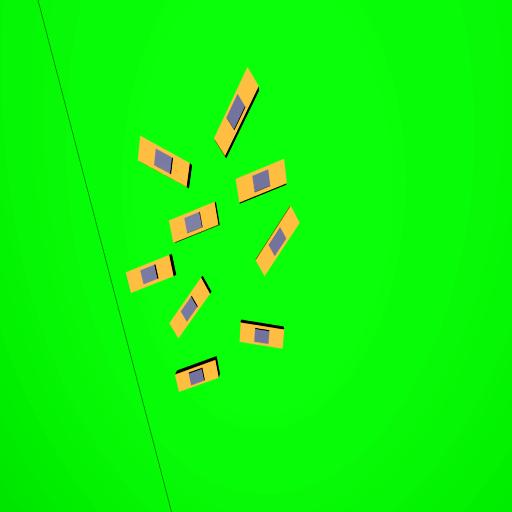objects: (208, 68, 264, 157), (251, 205, 304, 276), (128, 135, 198, 188), (165, 277, 215, 339), (230, 160, 292, 203), (163, 201, 224, 244), (122, 255, 176, 292), (172, 358, 222, 392), (237, 321, 286, 350)
